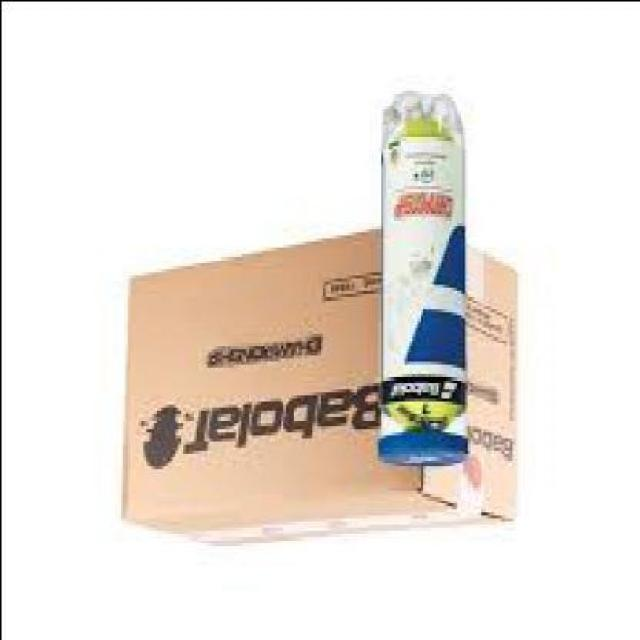box: (125, 231, 520, 545)
